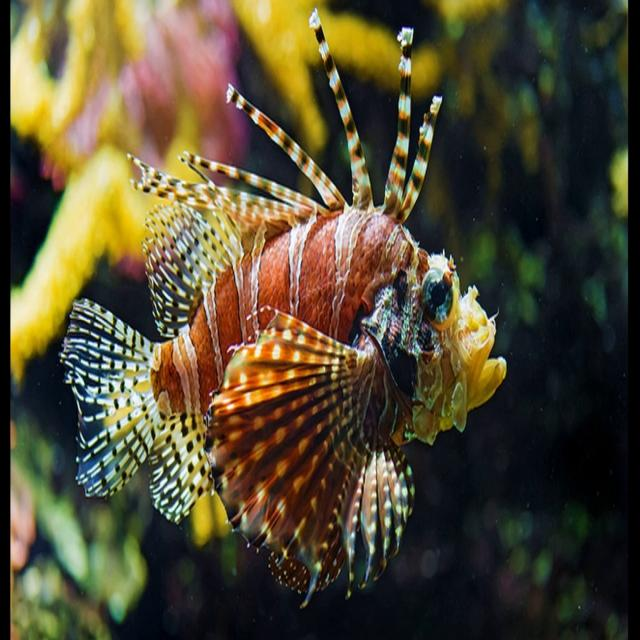Aslan Baligi: (58, 5, 508, 610)
